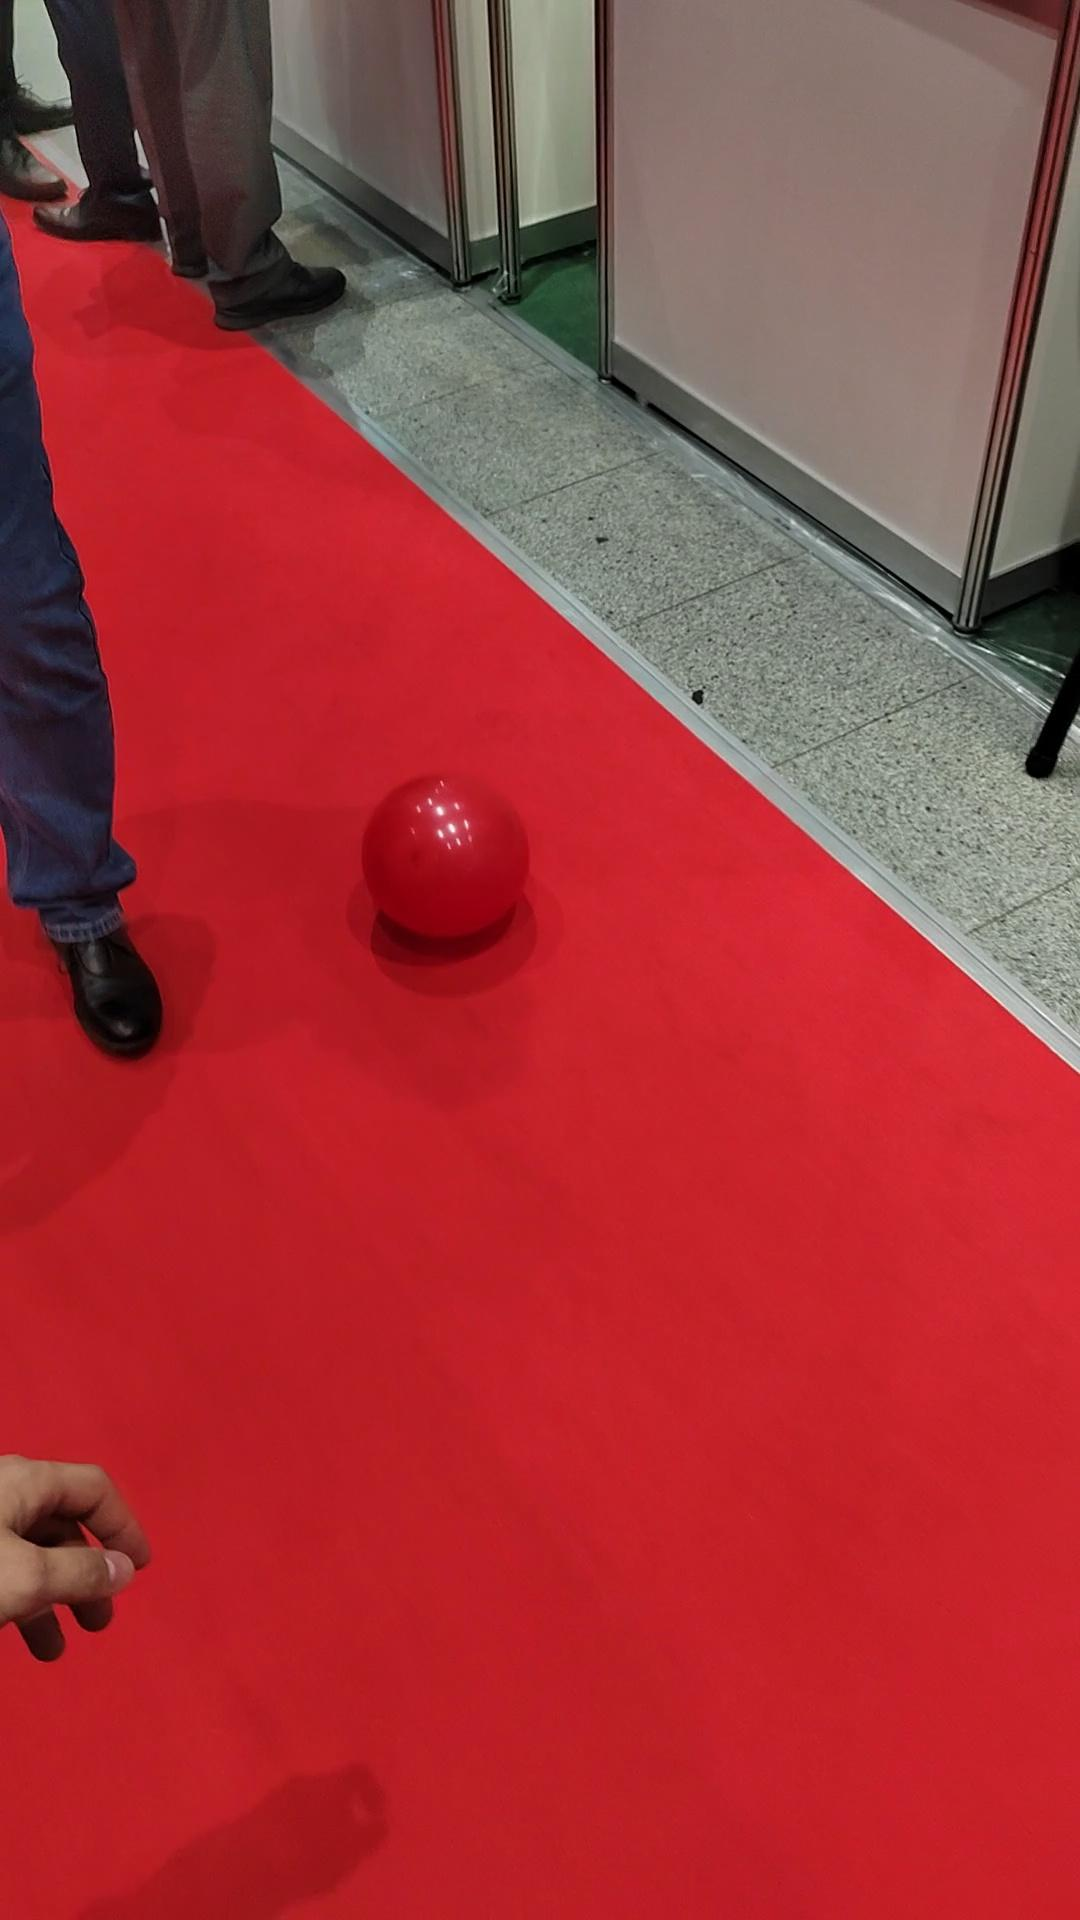red: (359, 773, 526, 939)
